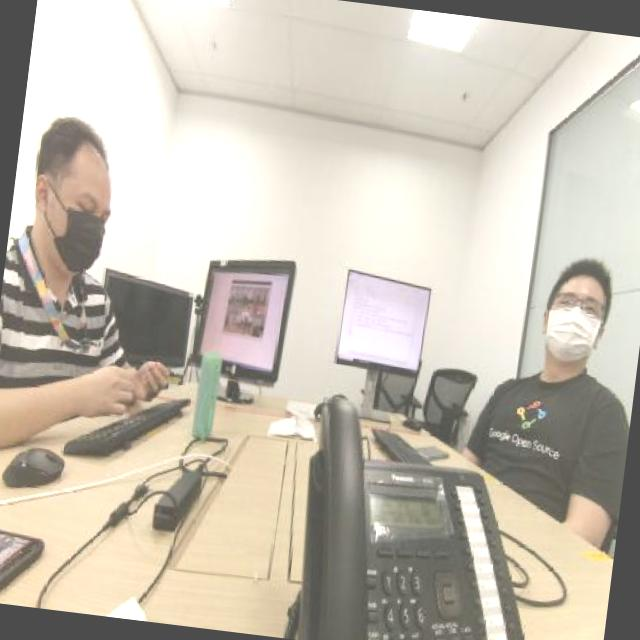Person: (8, 75, 146, 394), (514, 216, 640, 518)
